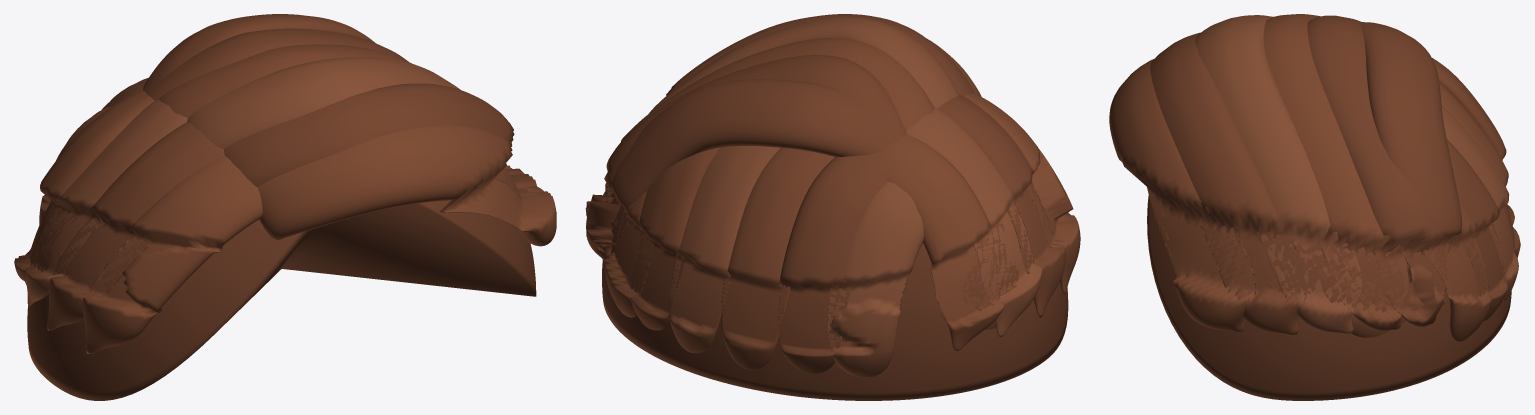
File: Masculine-sidepart-headband258-hair.glb
The picture shows the model from 3 angles, left to right: view 1: azimuth 30°, elevation 25°; view 2: azimuth 150°, elevation 25°; view 3: azimuth 270°, elevation 25°; orthographic projection. The views are drawn at different scales.
Visible parts, largest first — view 1: 226 hair / Hair258 / sculpted side sweep 1, 226 hair / Hair258 / sculpted side sweep 0, 226 hair / Hair258 / recessed roots, 226 hair / Hair258 / sculpted side sweep 2; view 2: 226 hair / Hair258 / sculpted side sweep 0, 226 hair / Hair258 / sculpted side sweep 1, 226 hair / Hair258 / sculpted side sweep 2, 226 hair / Hair258 / recessed roots; view 3: 226 hair / Hair258 / sculpted side sweep 0, 226 hair / Hair258 / sculpted side sweep 1, 226 hair / Hair258 / recessed roots, 226 hair / Hair258 / sculpted side sweep 2.
Part boxes in pixels (x1=…): 226 hair / Hair258 / sculpted side sweep 1: x1=14, y1=44, x2=556, y2=353; 226 hair / Hair258 / sculpted side sweep 0: x1=30, y1=14, x2=536, y2=330; 226 hair / Hair258 / recessed roots: x1=27, y1=200, x2=536, y2=400; 226 hair / Hair258 / sculpted side sweep 2: x1=25, y1=57, x2=512, y2=306; 226 hair / Hair258 / sculpted side sweep 0: x1=586, y1=14, x2=1065, y2=373; 226 hair / Hair258 / sculpted side sweep 1: x1=585, y1=38, x2=1080, y2=370; 226 hair / Hair258 / sculpted side sweep 2: x1=605, y1=17, x2=1041, y2=377; 226 hair / Hair258 / recessed roots: x1=602, y1=243, x2=1068, y2=400; 226 hair / Hair258 / sculpted side sweep 0: x1=1150, y1=15, x2=1514, y2=337; 226 hair / Hair258 / sculpted side sweep 1: x1=1109, y1=14, x2=1520, y2=341; 226 hair / Hair258 / recessed roots: x1=1147, y1=195, x2=1511, y2=400; 226 hair / Hair258 / sculpted side sweep 2: x1=1195, y1=15, x2=1518, y2=333.
Bounding box in the file's own units: 0.9741 × 0.5696 × 0.7887.
